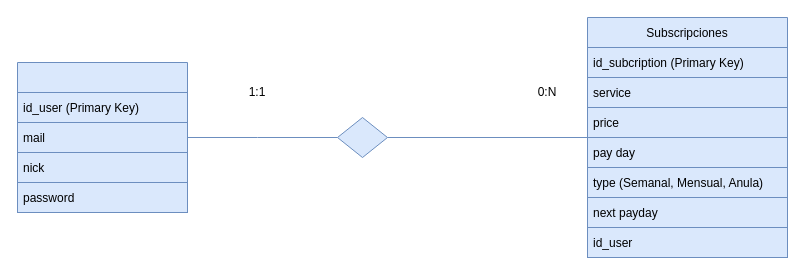
The diagram is 805 pixels wide and 275 high, and some of its shapes have lost their labels. Each missing label, with the box of its shape:
paga: (336, 116, 388, 158)
Usuario: (16, 62, 188, 212)
